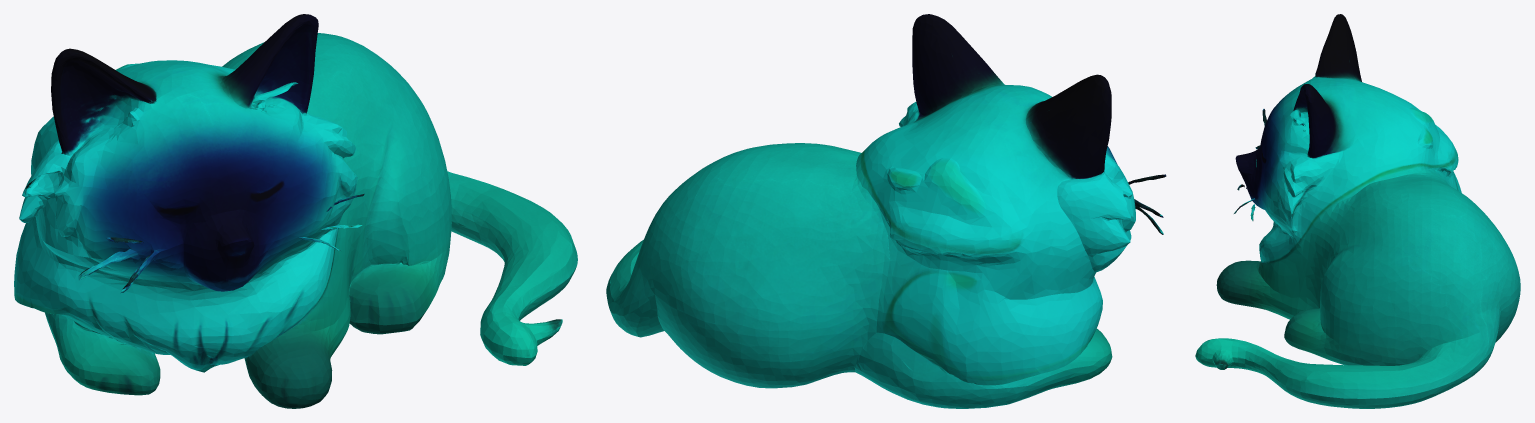
File: ghost_cat.glb
3 renders of one model, left to right at view 1: azimuth 30°, elevation 25°; view 2: azimuth 150°, elevation 25°; view 3: azimuth 270°, elevation 25°, orthographic. The views are drawn at different scales.
Parts seen in each view (by area): view 1: world; view 2: world; view 3: world.
Part boxes in pixels (box(x1,y1,x2,y2)): world: box(14, 14, 577, 408); world: box(606, 14, 1166, 408); world: box(1195, 14, 1520, 408).
Size of the model in its own units: 0.9838 by 0.5833 by 0.7358.
1 material, 1 textured.
